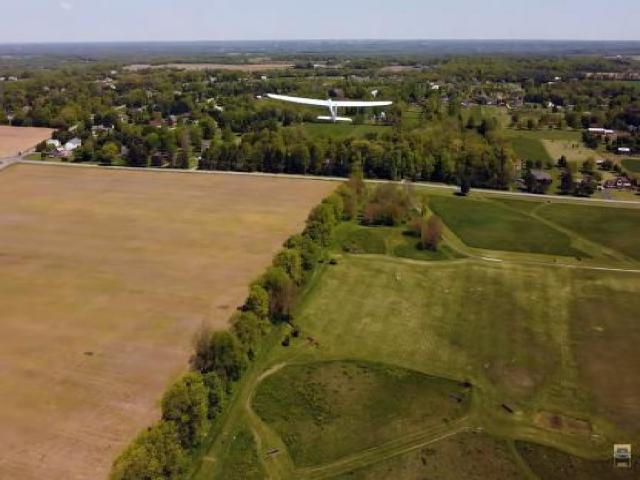uav: (260, 78, 397, 133)
